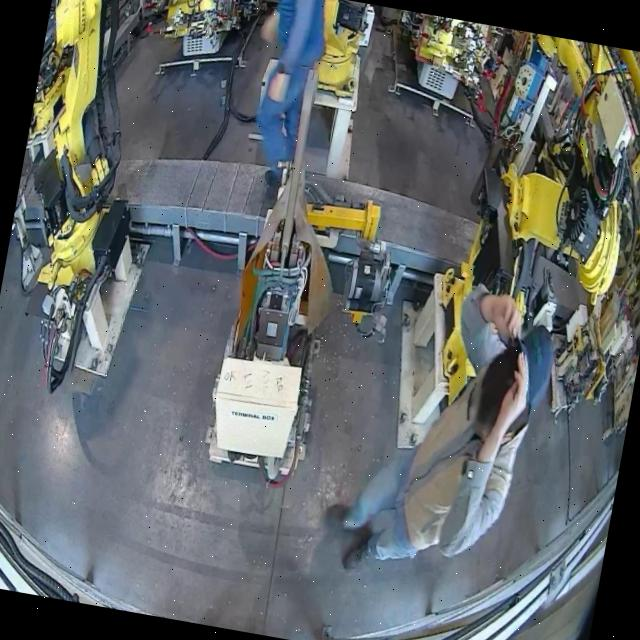Person: (328, 272, 562, 600), (232, 0, 334, 200)
